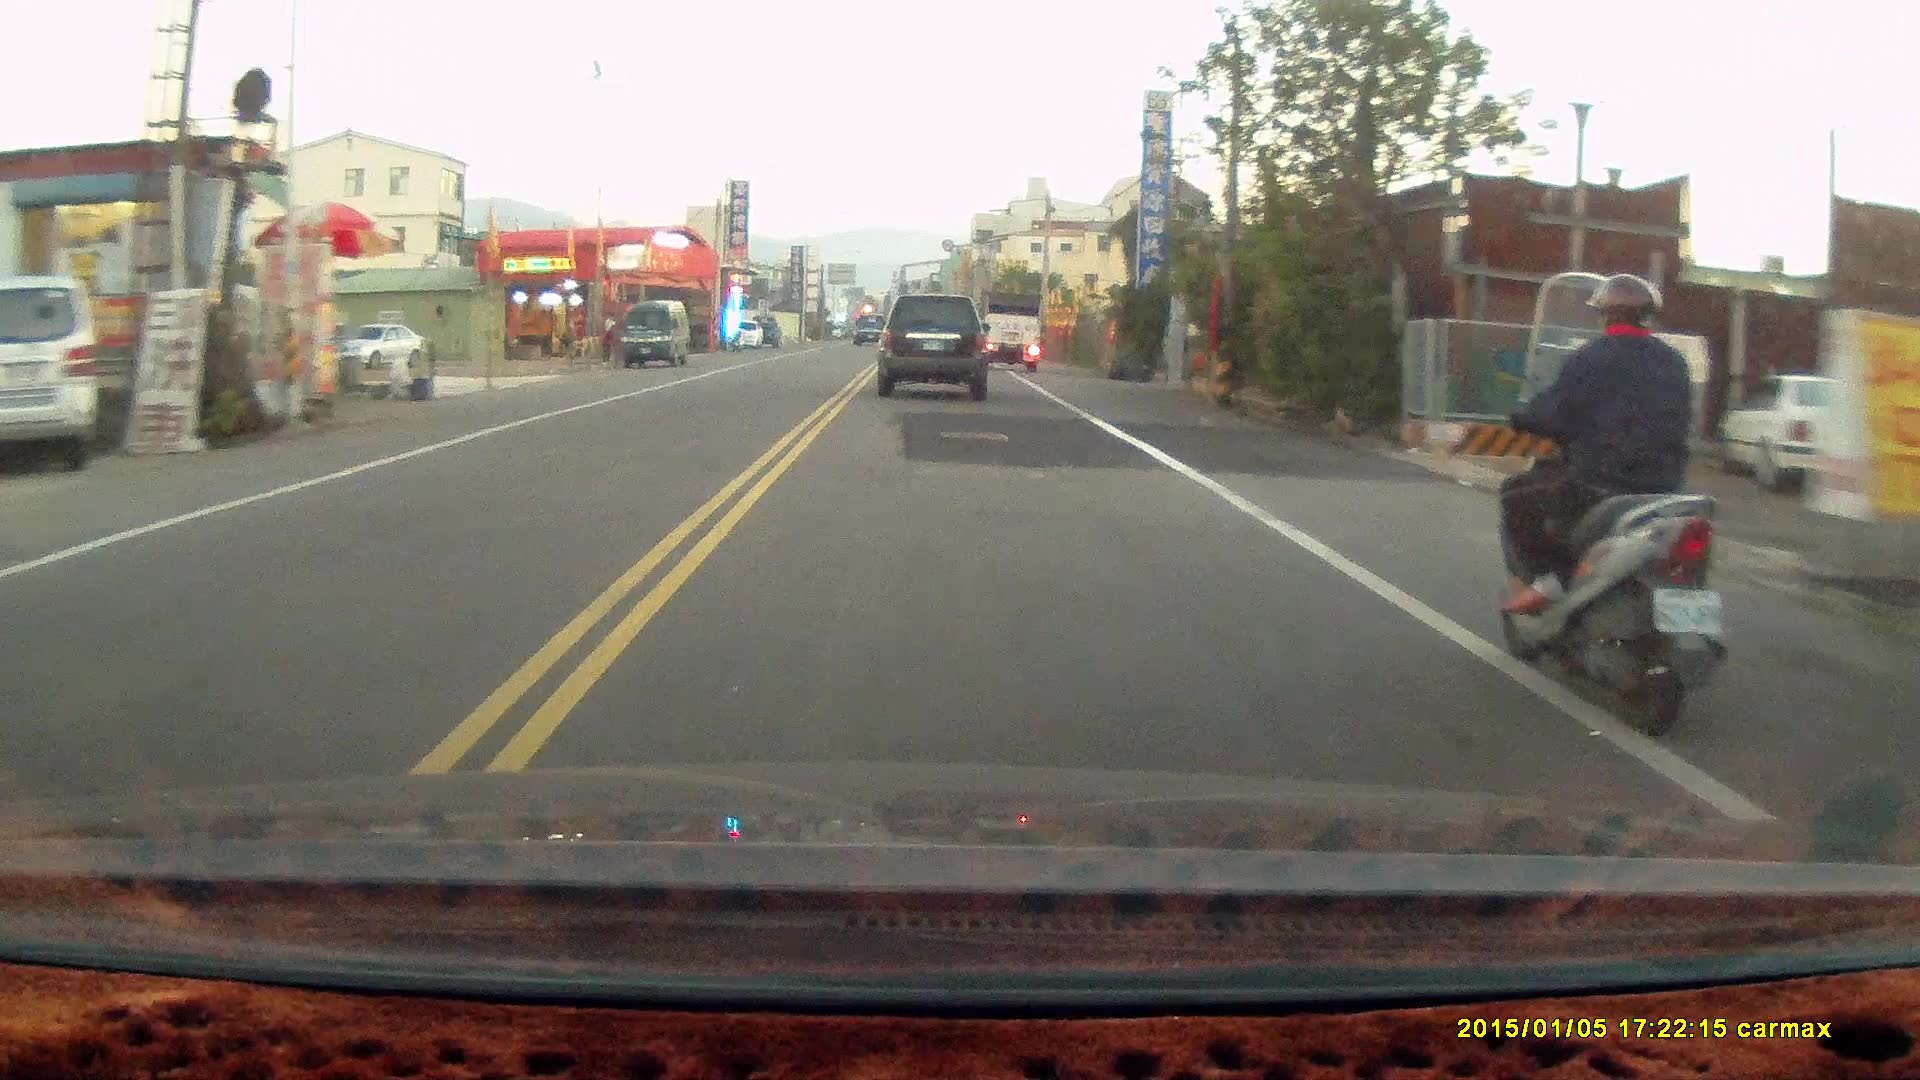rider: (1490, 267, 1728, 738)
vehicle: (1, 274, 105, 476), (878, 290, 992, 401), (982, 288, 1045, 371), (620, 299, 690, 368), (334, 323, 426, 370)
